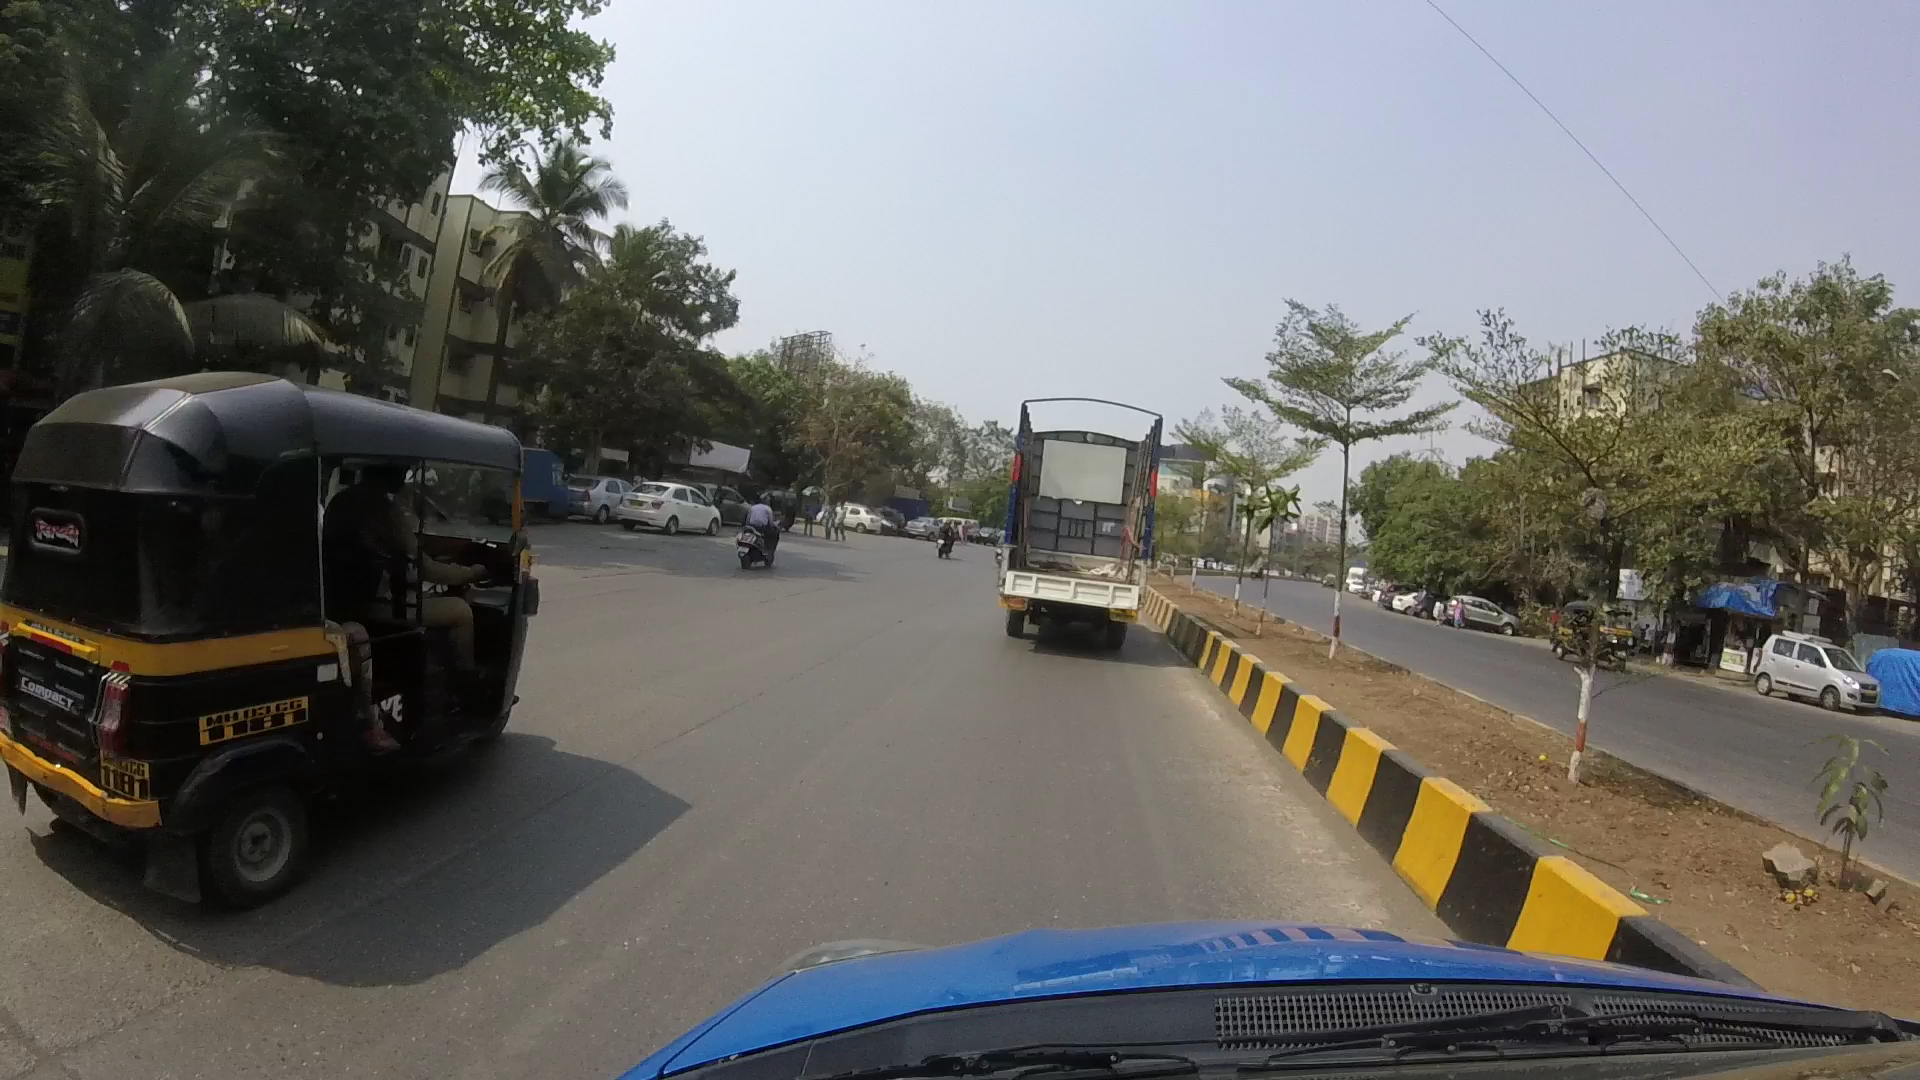bike/scooter: (731, 492, 778, 580)
car: (1758, 622, 1887, 716)
rickshaw: (28, 372, 543, 898)
truck: (1002, 398, 1168, 651)
